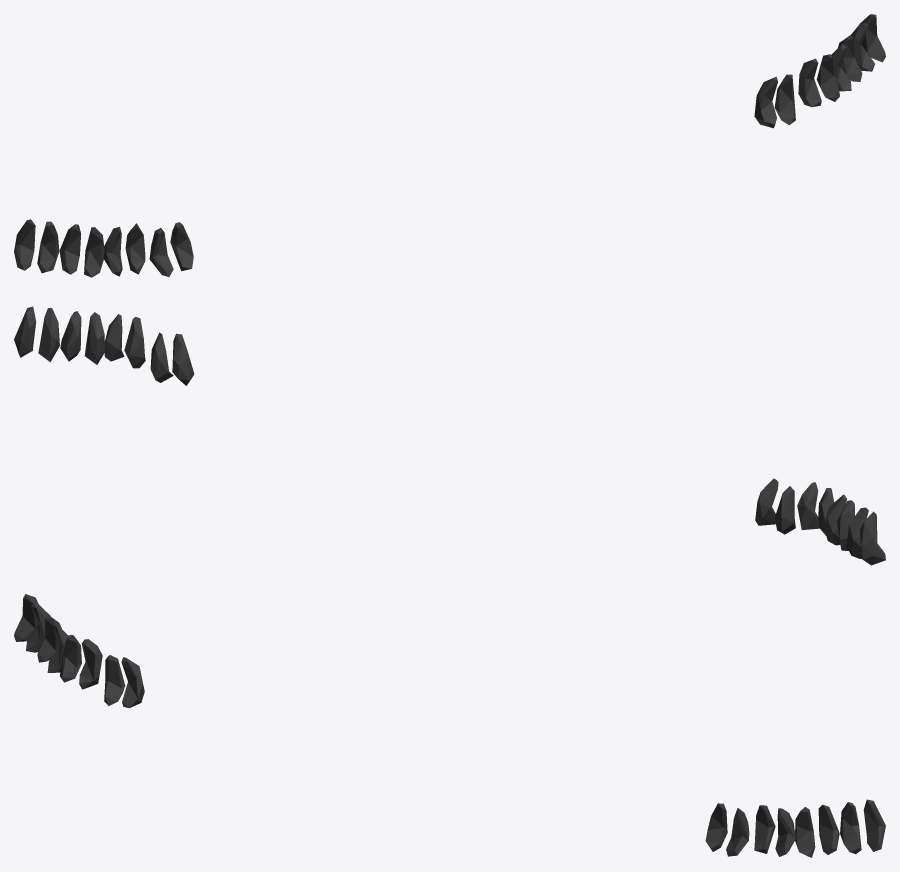
Rendered from HL_sesamoids_proximal.glb.
3 renders of one model, top to bottom at view 1: azimuth 30°, elevation 25°; view 2: azimuth 150°, elevation 25°; view 3: azimuth 330°, elevation 25°, orthographic.
Visible parts, largest first — view 1: HL_sesamoids_proximal; view 2: HL_sesamoids_proximal; view 3: HL_sesamoids_proximal.
Boxes of the visible parts, left/top/right/bottom form: HL_sesamoids_proximal: left=14, top=14, right=885, bottom=277; HL_sesamoids_proximal: left=14, top=306, right=885, bottom=565; HL_sesamoids_proximal: left=14, top=594, right=885, bottom=857.
Size of the model in its own units: 0.00604 by 0.000428 by 0.000488.
1 material, 1 textured.
